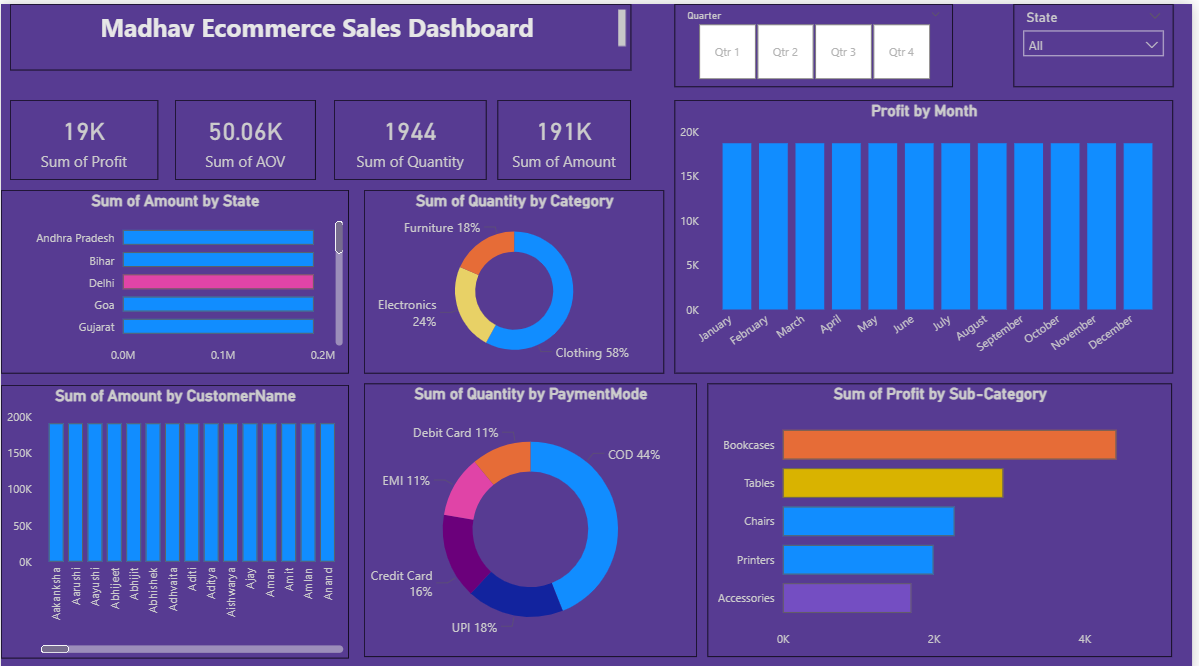

Layout of this report page (visuals, bound fields, positions):
{"tool":"powerbi","page":{"name":"Page 1","canvas":[1280,720],"ordinal":0},"visuals":[{"type":"textbox","box":[9.5,0,668.1,71.6],"z":0},{"type":"columnChart","title":"Profit by Month","fields":{"Y":["Details.Profit"],"Category":["Orders.Order Date.Variation.Date Hierarchy.Month"]},"box":[723.7,103.4,536,294.3],"z":1000},{"type":"clusteredBarChart","fields":{"Category":["Details.Sub-Category"],"Y":["Details.Profit"]},"box":[760.3,408.8,499.5,294.3],"z":2000},{"type":"donutChart","fields":{"Category":["Details.Category"],"Y":["Details.Quantity"]},"box":[389.7,200.4,322.9,197.2],"z":3000},{"type":"donutChart","fields":{"Category":["Details.PaymentMode","Details.Category"],"Y":["Details.Quantity"]},"box":[389.7,408.8,357.9,294.3],"z":4000},{"type":"card","fields":{"Values":["Details.Amount"]},"box":[534.4,103.4,143.2,85.9],"z":5000},{"type":"card","fields":{"Values":["Details.Quantity"]},"box":[357.9,103.4,163.8,85.9],"z":6000},{"type":"card","fields":{"Values":["Details.Profit"]},"box":[9.5,103.4,159.1,85.9],"z":7000},{"type":"card","fields":{"Values":["Details.AOV"]},"box":[187.7,103.4,151.1,85.9],"z":8000},{"type":"clusteredBarChart","fields":{"Category":["Orders.State"],"Y":["Details.Amount"]},"box":[0,200.4,373.8,197.2],"z":9000},{"type":"columnChart","fields":{"Category":["Orders.CustomerName"],"Y":["Details.Amount"]},"box":[0,409,374,294],"z":10000},{"type":"slicer","fields":{"Values":["Orders.Order Date.Variation.Date Hierarchy.Quarter"]},"box":[723.7,0,299,89.1],"z":10001},{"type":"slicer","fields":{"Values":["Orders.State"]},"box":[1088,0,171.8,89.1],"z":10002}]}

Visuals, with their boxes in screenshot pixels (x1, y1, x2, y2), scaled from the page's 1280x720 canvas onto the 1199x666 screenshot:
textbox: x1=9 y1=0 x2=635 y2=66
"Profit by Month" columnChart: x1=678 y1=96 x2=1180 y2=368
clusteredBarChart - Details.Sub-Category x Details.Profit: x1=712 y1=378 x2=1180 y2=650
donutChart - Details.Category x Details.Quantity: x1=365 y1=185 x2=668 y2=368
donutChart - Details.PaymentMode x Details.Category: x1=365 y1=378 x2=700 y2=650
card - Details.Amount: x1=501 y1=96 x2=635 y2=175
card - Details.Quantity: x1=335 y1=96 x2=489 y2=175
card - Details.Profit: x1=9 y1=96 x2=158 y2=175
card - Details.AOV: x1=176 y1=96 x2=317 y2=175
clusteredBarChart - Orders.State x Details.Amount: x1=0 y1=185 x2=350 y2=368
columnChart - Orders.CustomerName x Details.Amount: x1=0 y1=378 x2=350 y2=650
slicer - Orders.Order Date.Variation.Date Hierarchy.Quarter: x1=678 y1=0 x2=958 y2=82
slicer - Orders.State: x1=1019 y1=0 x2=1180 y2=82
